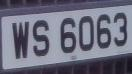0: (77, 12, 97, 55)
3: (112, 8, 130, 52)
6: (58, 12, 79, 59), (95, 10, 114, 54)
S: (31, 15, 53, 63)
W: (7, 16, 33, 65)
